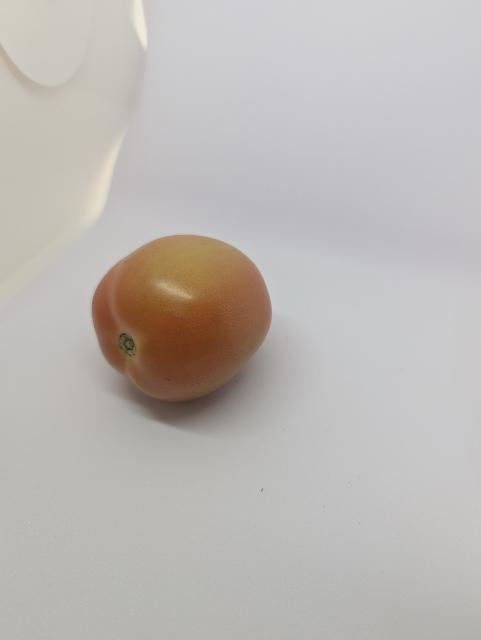turning: (88, 233, 280, 411)
